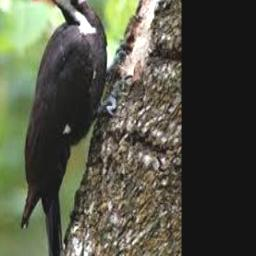Woodpecker: (21, 0, 126, 256)
